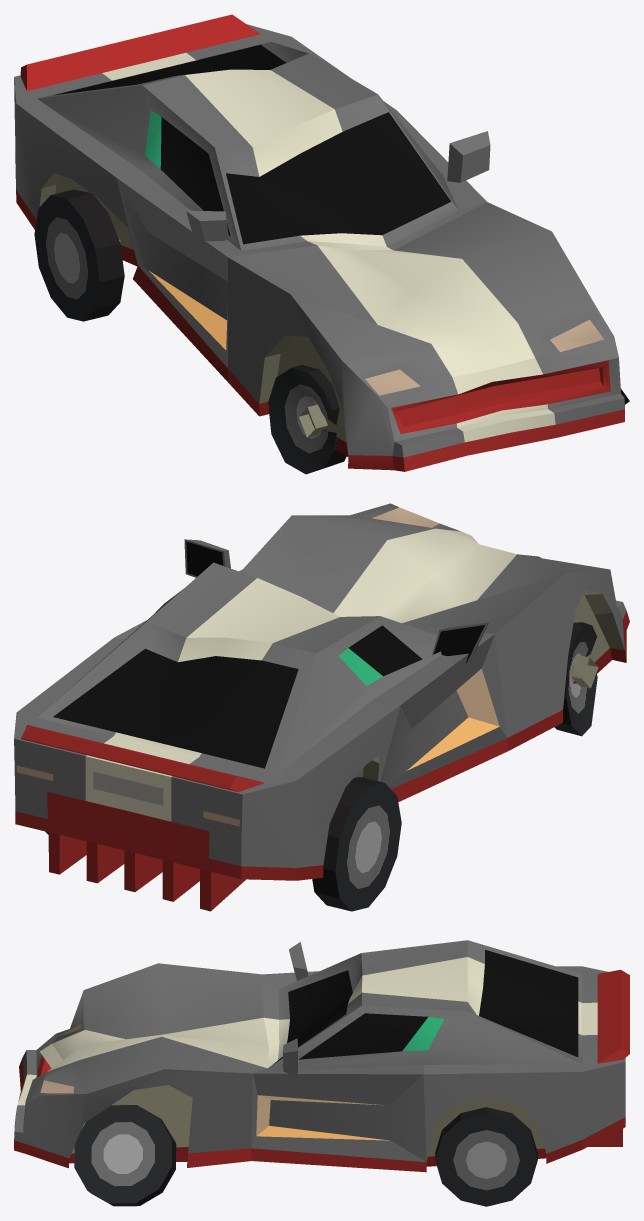
Rendered from WreckedCar4.fbx.
3 views of the same model, one above another, from view 1: azimuth 30°, elevation 25°; view 2: azimuth 150°, elevation 25°; view 3: azimuth 270°, elevation 25° (orthographic). The views are drawn at different scales.
Parts seen in each view (by area): view 1: SR_Veh_MuscleSports_Purple, SR_Veh_MuscleSports_Wheel_RR, SR_Veh_MuscleSports_Wheel_FR; view 2: SR_Veh_MuscleSports_Purple, SR_Veh_MuscleSports_Wheel_RR, SR_Veh_MuscleSports_Wheel_FR; view 3: SR_Veh_MuscleSports_Purple, SR_Veh_MuscleSports_Wheel_FL, SR_Veh_MuscleSports_Wheel_RL.
Part boxes in pixels (x1,y1,x2,y2): SR_Veh_MuscleSports_Purple: [14, 14, 624, 471]; SR_Veh_MuscleSports_Wheel_RR: [34, 189, 124, 321]; SR_Veh_MuscleSports_Wheel_FR: [268, 364, 346, 474]; SR_Veh_MuscleSports_Purple: [14, 503, 629, 911]; SR_Veh_MuscleSports_Wheel_RR: [312, 777, 401, 911]; SR_Veh_MuscleSports_Wheel_FR: [554, 622, 597, 736]; SR_Veh_MuscleSports_Purple: [14, 940, 629, 1172]; SR_Veh_MuscleSports_Wheel_FL: [74, 1105, 176, 1206]; SR_Veh_MuscleSports_Wheel_RL: [435, 1107, 537, 1206].
Size of the model in its own units: 359 by 238 by 748.
1 material, 1 textured.
